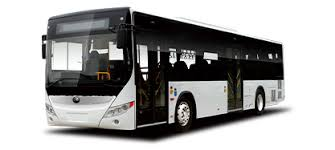bus: (41, 6, 286, 132)
